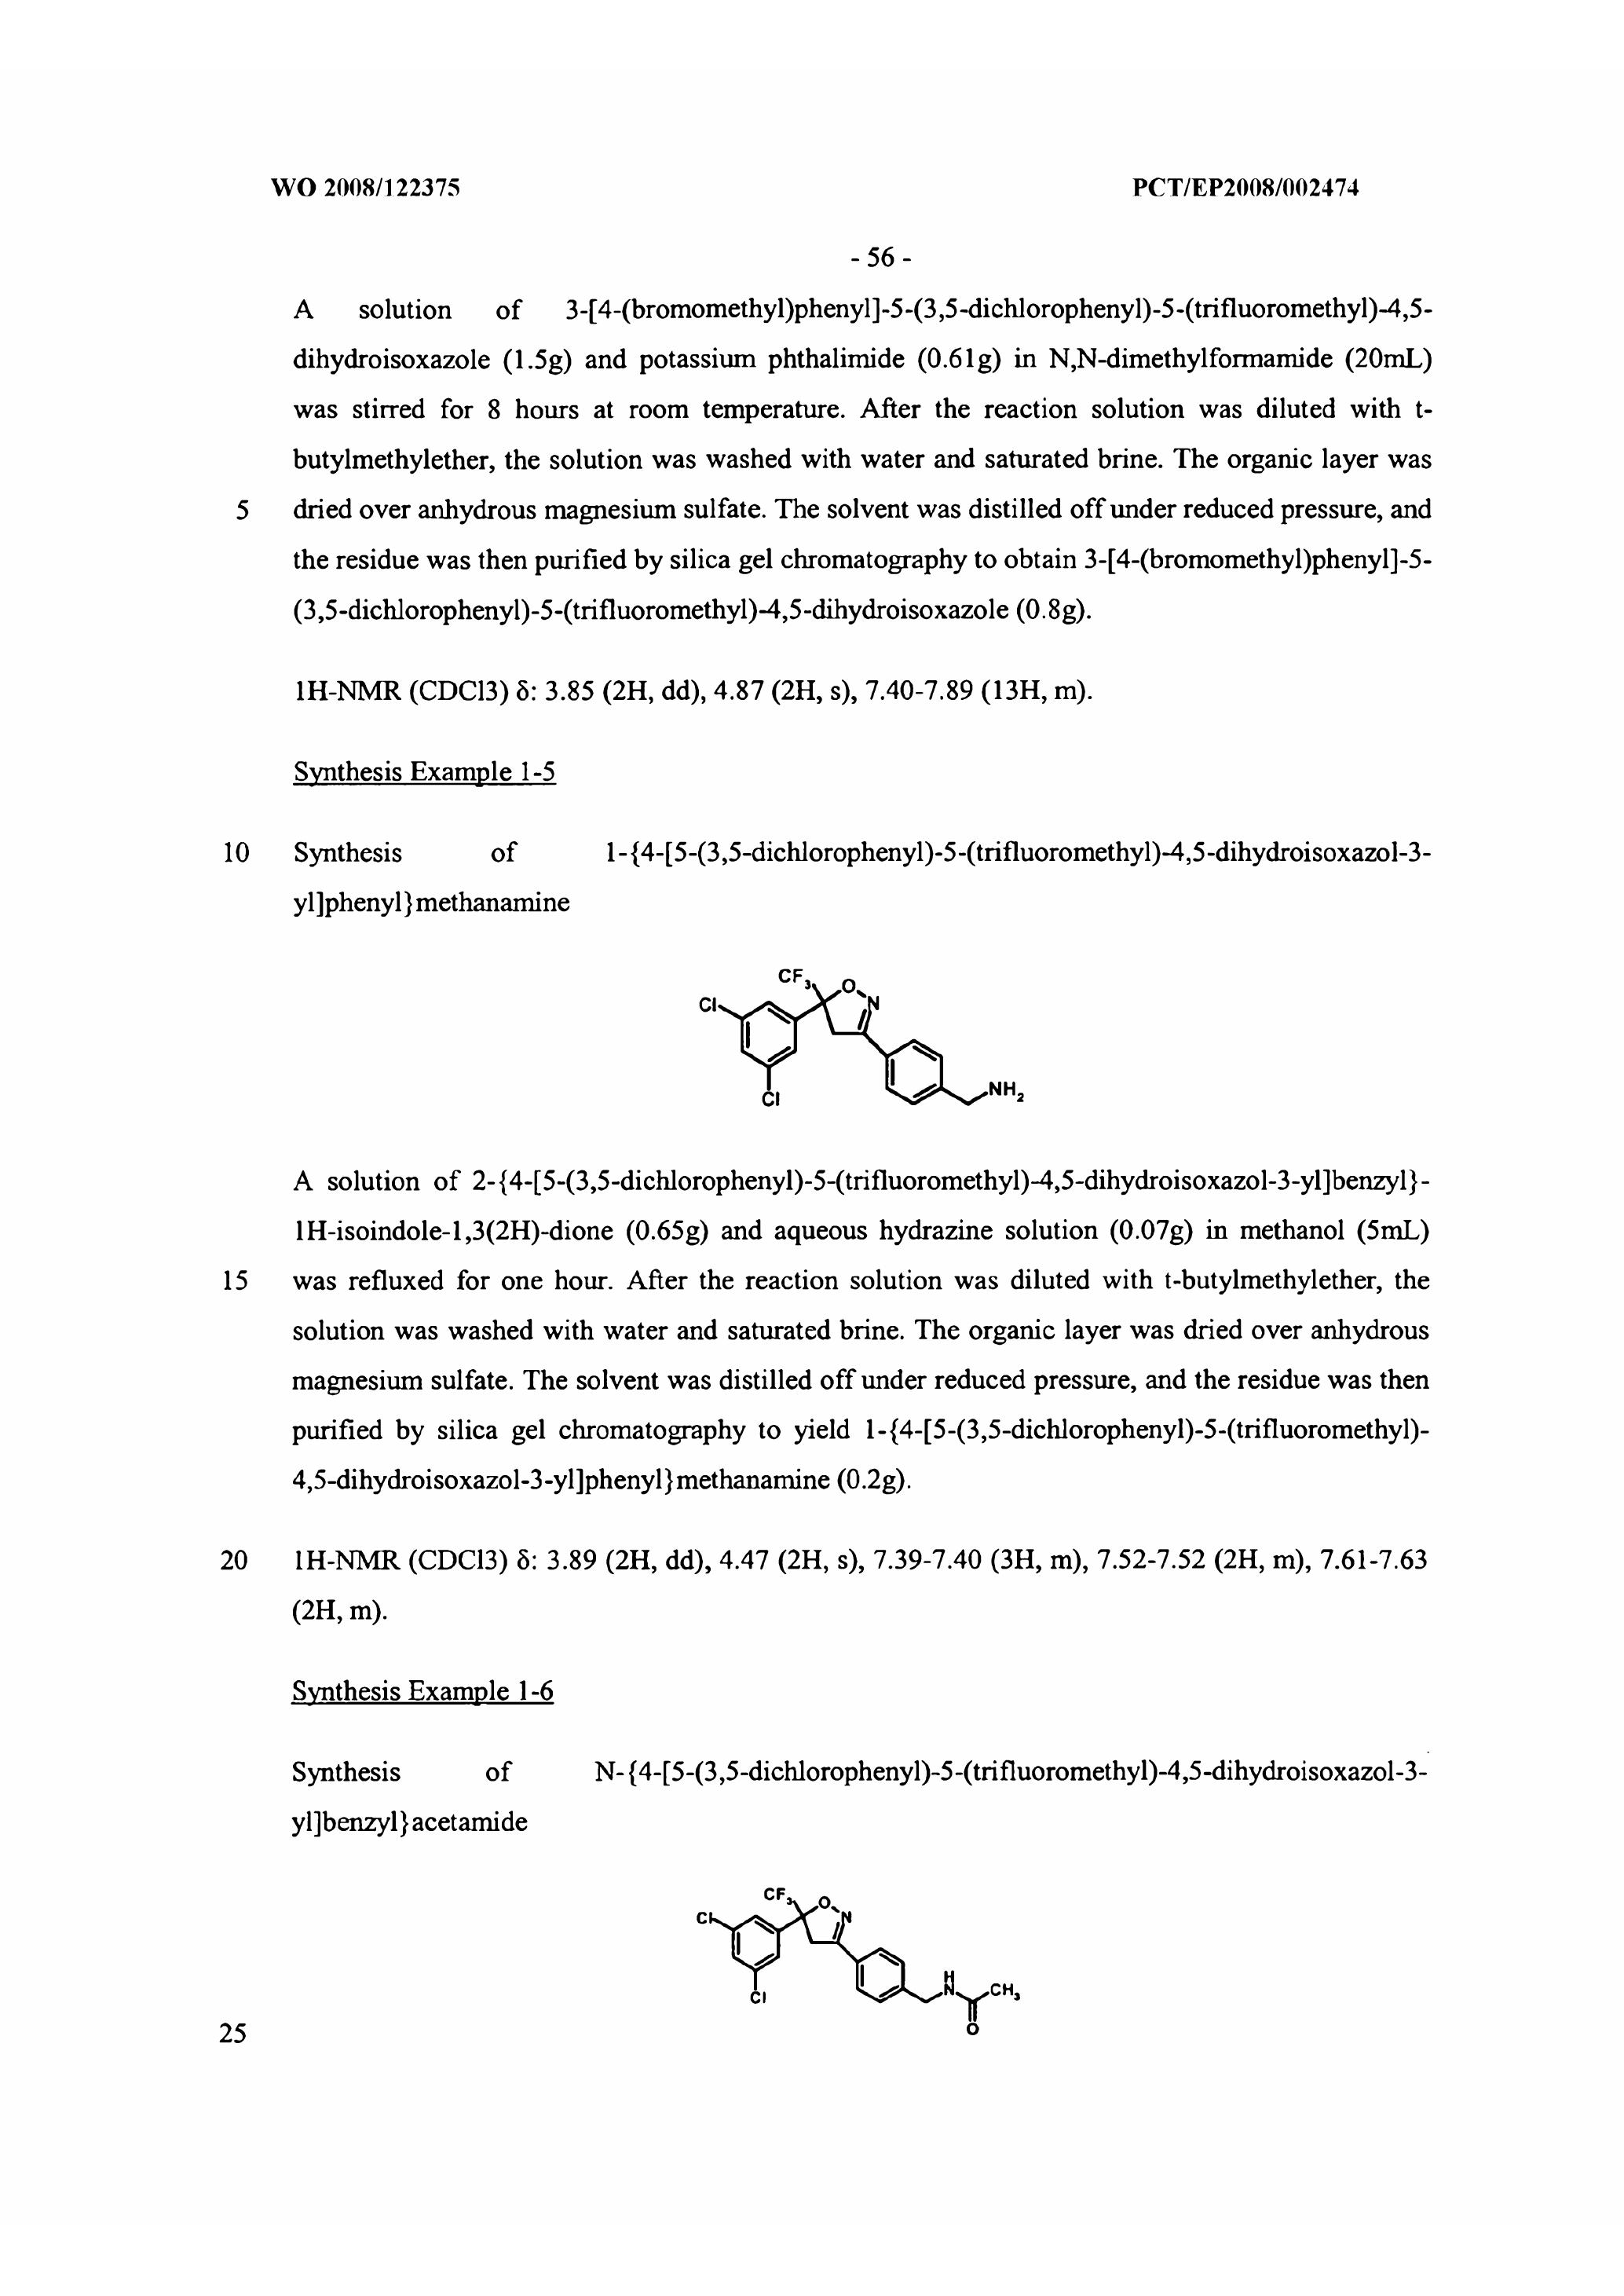relevant-structures: (701, 1851, 1098, 2191), (684, 895, 1107, 1132)
